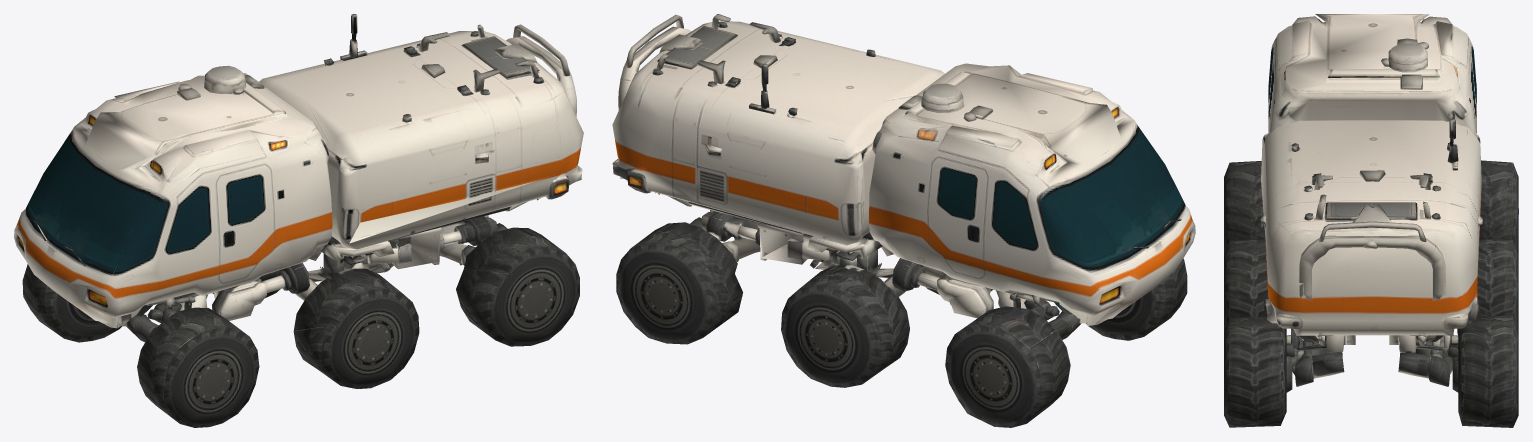
File: AW-MOON-ROVER-001-v0.2.glb
3 renders of one model, left to right at view 1: azimuth 30°, elevation 25°; view 2: azimuth 150°, elevation 25°; view 3: azimuth 270°, elevation 25°, orthographic. The views are drawn at different scales.
Parts seen in each view (by area): view 1: AW-MOON-ROVER-001_meter_ground_pivot; view 2: AW-MOON-ROVER-001_meter_ground_pivot; view 3: AW-MOON-ROVER-001_meter_ground_pivot.
Part boxes in pixels (x1,y1,x2,y2): AW-MOON-ROVER-001_meter_ground_pivot: (14, 14, 583, 427); AW-MOON-ROVER-001_meter_ground_pivot: (612, 14, 1195, 427); AW-MOON-ROVER-001_meter_ground_pivot: (1224, 14, 1518, 427).
Size of the model in its own units: 4.93 by 2.5 by 2.46.
Materials: 1 (1 with a texture image).
